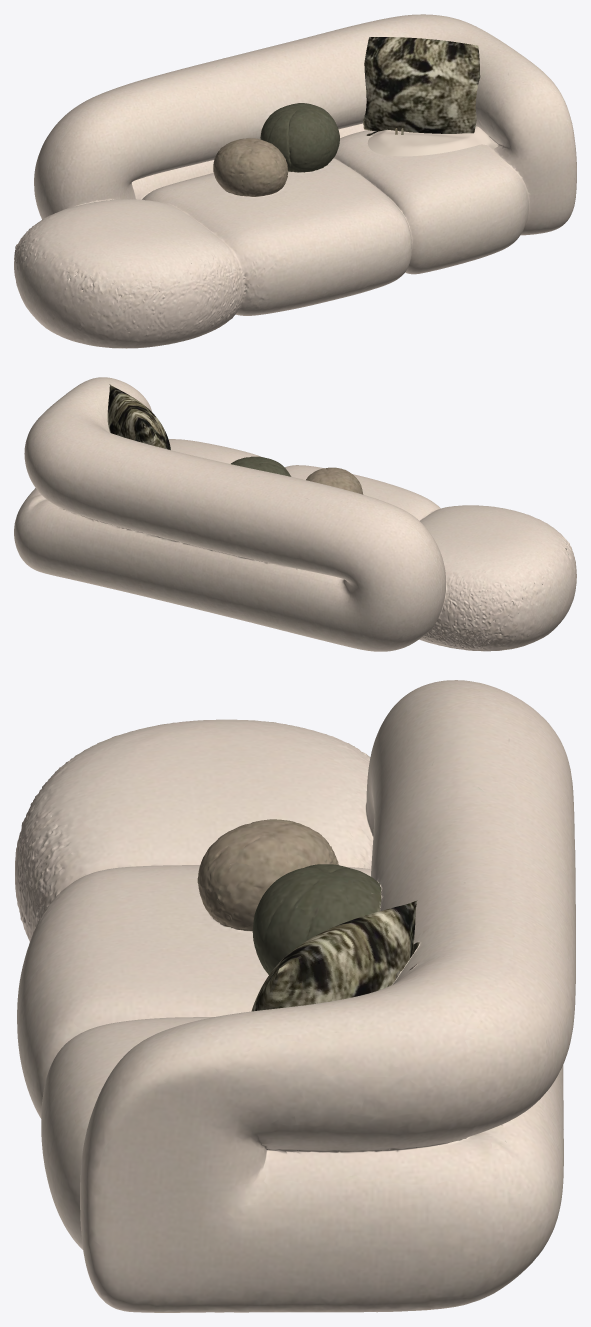
The model's file is main-sofa-organic-cream-boucle-refined.glb.
3 renders of one model, top to bottom at view 1: azimuth 30°, elevation 25°; view 2: azimuth 150°, elevation 25°; view 3: azimuth 270°, elevation 25°, orthographic. The views are drawn at different scales.
Parts seen in each view (by area): view 1: world; view 2: world; view 3: world.
Boxes of the visible parts, x1=… form: world: x1=14, y1=14, x2=576, y2=348; world: x1=14, y1=377, x2=576, y2=651; world: x1=15, y1=680, x2=575, y2=1312.
Size of the model in its own units: 1 by 0.3126 by 0.499.
3 materials, 3 textured.
